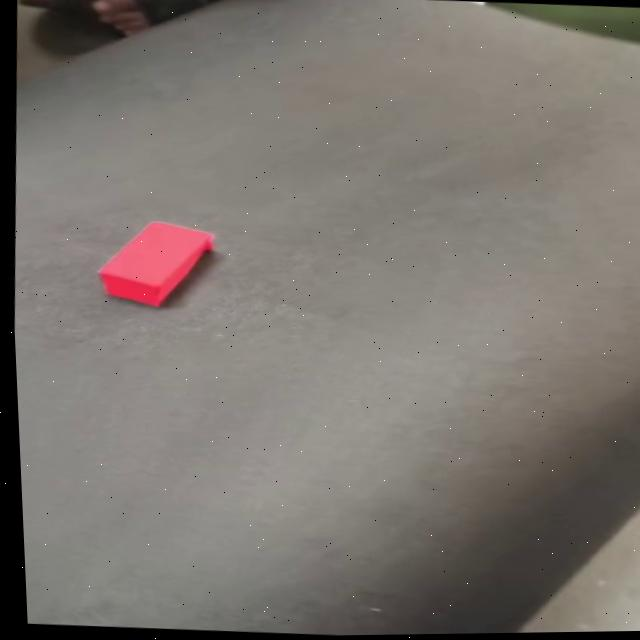red block: (91, 215, 217, 310)
